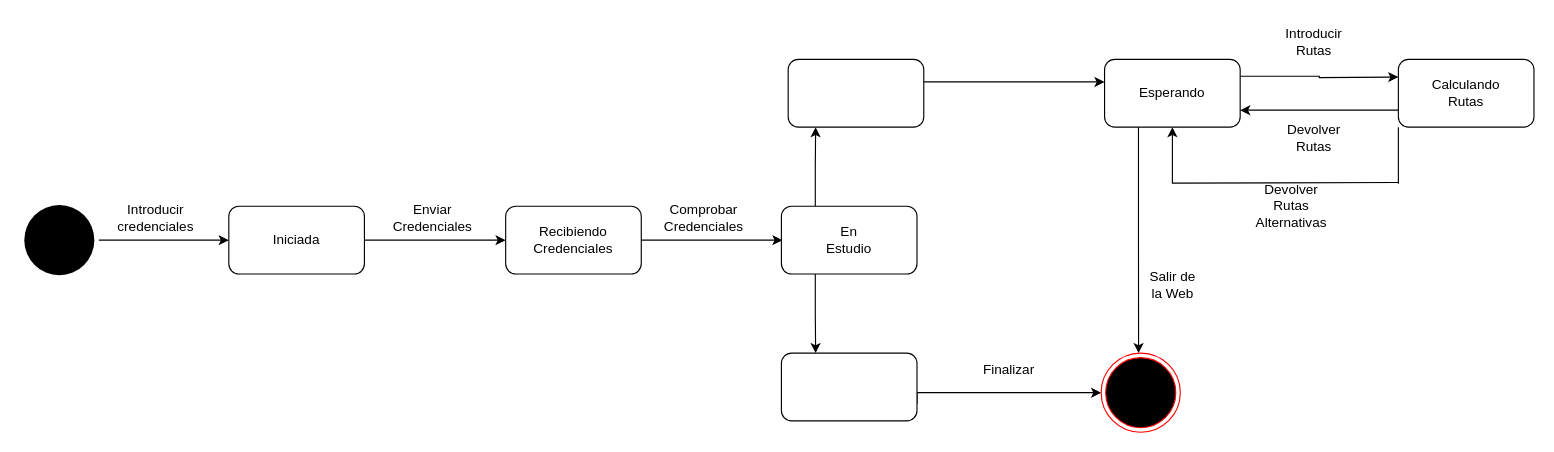
Some shapes in this 1554 by 452 pixel diagram are drawn without their labels. The box of each missing label's shape, as (x1, y1, x2, y2) in pixels:
Aceptada: (787, 58, 924, 127)
Denegada: (780, 352, 917, 421)
